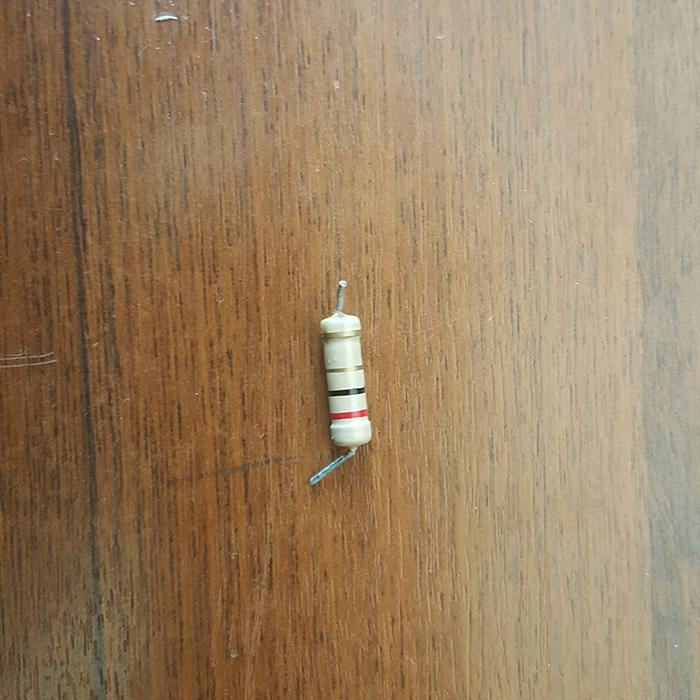resistor: (318, 314, 376, 449)
